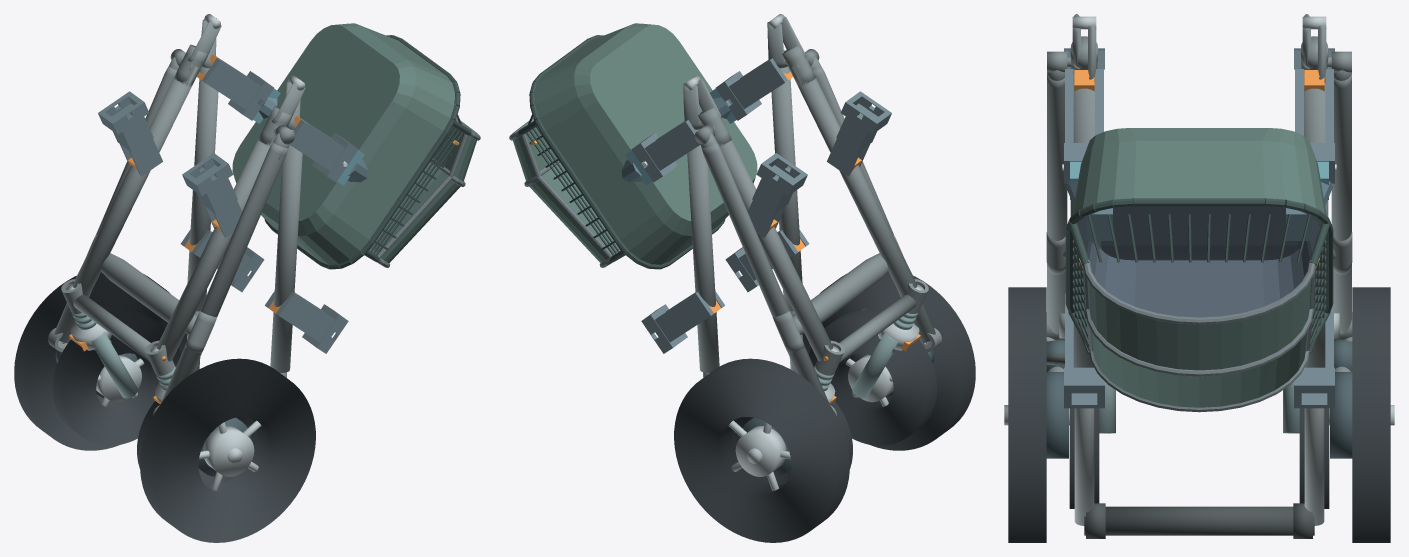
File: S02_w380_state3_wheel_M.glb
3 views of the same model, side by side, from view 1: azimuth 30°, elevation 25°; view 2: azimuth 150°, elevation 25°; view 3: azimuth 270°, elevation 25° (orthographic). The views are drawn at different scales.
Parts seen in each view (by area): view 1: S02_Cabin, RL_tire.013, FR_tire.013, RR_tire.013, main_upper_-1.001, V46_rear_leg_-1, main_lower_1.001, main_lower_-1.001, Universal_Cabin_Receiver_L_1, Universal_Cabin_Receiver_L_-1, main_upper_1.001, Universal_Cabin_Receiver_H_-1 (+15 smaller); view 2: S02_Cabin, RR_tire.013, FL_tire.013, RL_tire.013, main_upper_1.001, V46_rear_leg_1, main_lower_-1.001, main_lower_1.001, Universal_Cabin_Receiver_L_-1, Universal_Cabin_Receiver_L_1, main_upper_-1.001, Universal_Cabin_Receiver_H_1 (+17 smaller); view 3: S02_Cabin, RL_tire.013, RR_tire.013, round_handle.012, V46_rear_leg_1, V46_rear_leg_-1, handle_slider_1.012, handle_slider_-1.012, S02_Cabin_Mount_M, Universal_Cabin_Receiver_H_1, Universal_Cabin_Receiver_H_-1, RL_brake_backplate.013 (+16 smaller).
Boxes of the visible parts, box(x1,y1,x2,y2) form: S02_Cabin: box(232, 23, 480, 269); RL_tire.013: box(140, 358, 315, 542); FR_tire.013: box(52, 310, 180, 445); RR_tire.013: box(14, 272, 187, 450); main_upper_-1.001: box(270, 129, 302, 372); V46_rear_leg_-1: box(160, 142, 288, 403); main_lower_1.001: box(72, 66, 198, 296); main_lower_-1.001: box(156, 136, 275, 361); Universal_Cabin_Receiver_L_1: box(98, 91, 162, 176); Universal_Cabin_Receiver_L_-1: box(182, 153, 242, 237); main_upper_1.001: box(187, 66, 218, 311); Universal_Cabin_Receiver_H_-1: box(265, 291, 348, 353); S02_Cabin: box(509, 23, 757, 269); RR_tire.013: box(674, 358, 849, 542); FL_tire.013: box(809, 310, 937, 445); RL_tire.013: box(802, 272, 975, 450); main_upper_1.001: box(687, 129, 719, 372); V46_rear_leg_1: box(701, 142, 829, 403); main_lower_-1.001: box(791, 66, 917, 296); main_lower_1.001: box(714, 136, 833, 361); Universal_Cabin_Receiver_L_-1: box(827, 91, 891, 176); Universal_Cabin_Receiver_L_1: box(747, 153, 807, 237); main_upper_-1.001: box(771, 66, 802, 311); Universal_Cabin_Receiver_H_1: box(641, 291, 724, 353); S02_Cabin: box(1065, 128, 1333, 412); RL_tire.013: box(1008, 287, 1046, 542); RR_tire.013: box(1352, 287, 1390, 542); round_handle.012: box(1084, 506, 1314, 535); V46_rear_leg_1: box(1331, 73, 1351, 334); V46_rear_leg_-1: box(1047, 73, 1067, 334); handle_slider_1.012: box(1304, 408, 1324, 525); handle_slider_-1.012: box(1074, 408, 1094, 525); S02_Cabin_Mount_M: box(1062, 161, 1336, 240); Universal_Cabin_Receiver_H_1: box(1294, 293, 1334, 408); Universal_Cabin_Receiver_H_-1: box(1064, 293, 1104, 408); RL_brake_backplate.013: box(1046, 372, 1068, 458).
Size of the model in its own units: 0.6965 by 0.7426 by 0.458.
